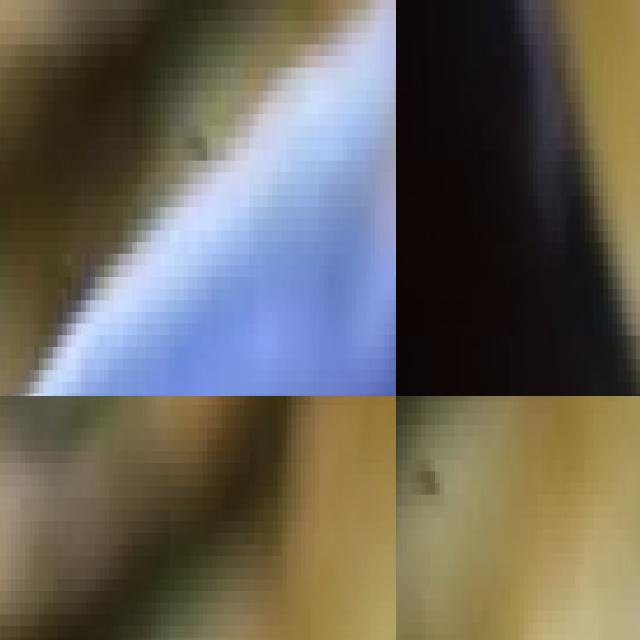fish: (0, 0, 396, 396), (396, 0, 640, 396)
